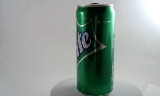sprite: (69, 1, 107, 95)
